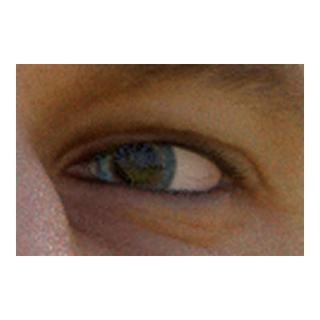pupil: (114, 143, 156, 185)
